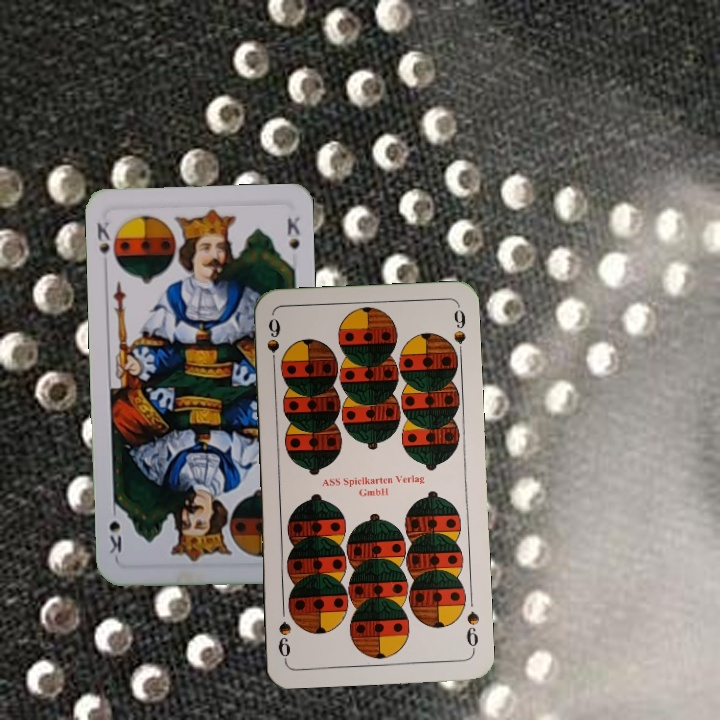S9: (262, 313, 283, 373), (462, 607, 482, 654)
SK: (92, 218, 113, 272)
